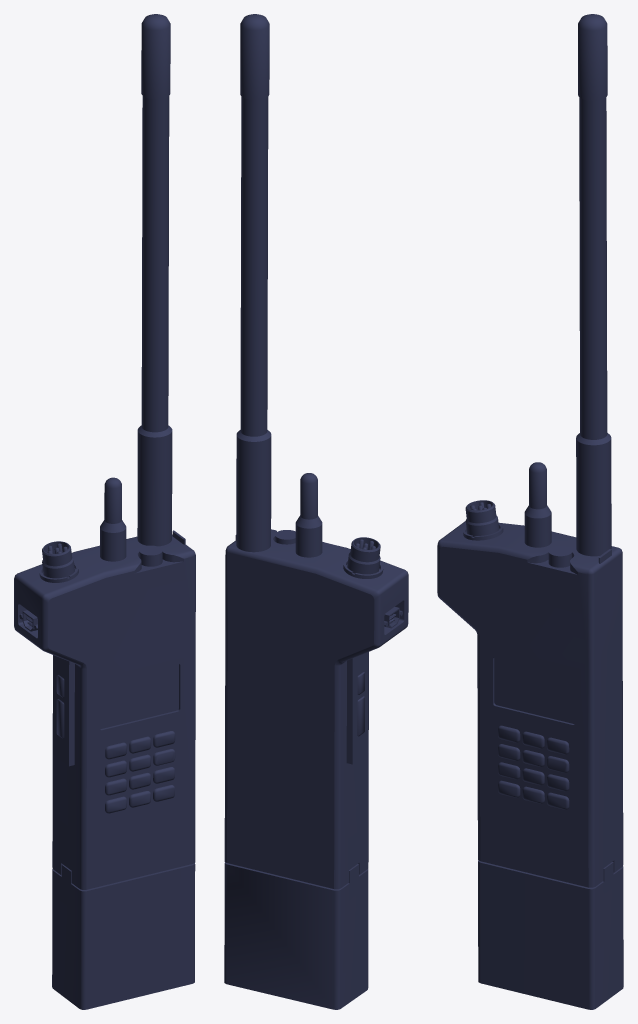
File: radio.obj
The picture shows the model from 3 angles, left to right: view 1: azimuth 30°, elevation 25°; view 2: azimuth 150°, elevation 25°; view 3: azimuth 330°, elevation 25°; orthographic projection.
Visible parts, largest first — view 1: low2_low2_Plane:012_Plane:013:031_low2_Plane:012_Plane:013:031:0; view 2: low2_low2_Plane:012_Plane:013:031_low2_Plane:012_Plane:013:031:0; view 3: low2_low2_Plane:012_Plane:013:031_low2_Plane:012_Plane:013:031:0.
Boxes of the visible parts, x1,y1,x2,y2 form: low2_low2_Plane:012_Plane:013:031_low2_Plane:012_Plane:013:031:0: (14, 14, 195, 1009); low2_low2_Plane:012_Plane:013:031_low2_Plane:012_Plane:013:031:0: (224, 14, 408, 1009); low2_low2_Plane:012_Plane:013:031_low2_Plane:012_Plane:013:031:0: (437, 14, 623, 1009).
Size of the model in its own units: 1.02 by 6.06 by 0.3894.
